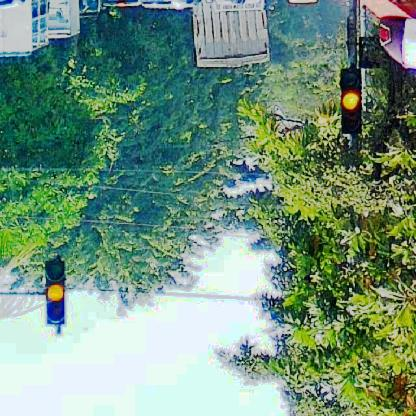Traffic Light -Yellow-: (339, 68, 360, 135), (46, 261, 66, 326)
